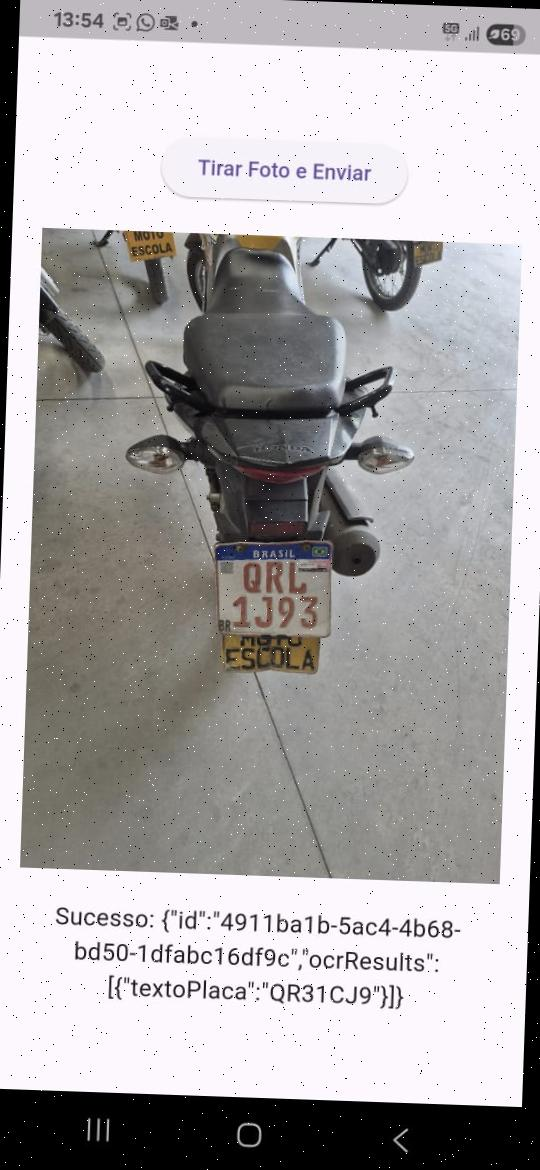placa_mercosul: (215, 539, 333, 638)
